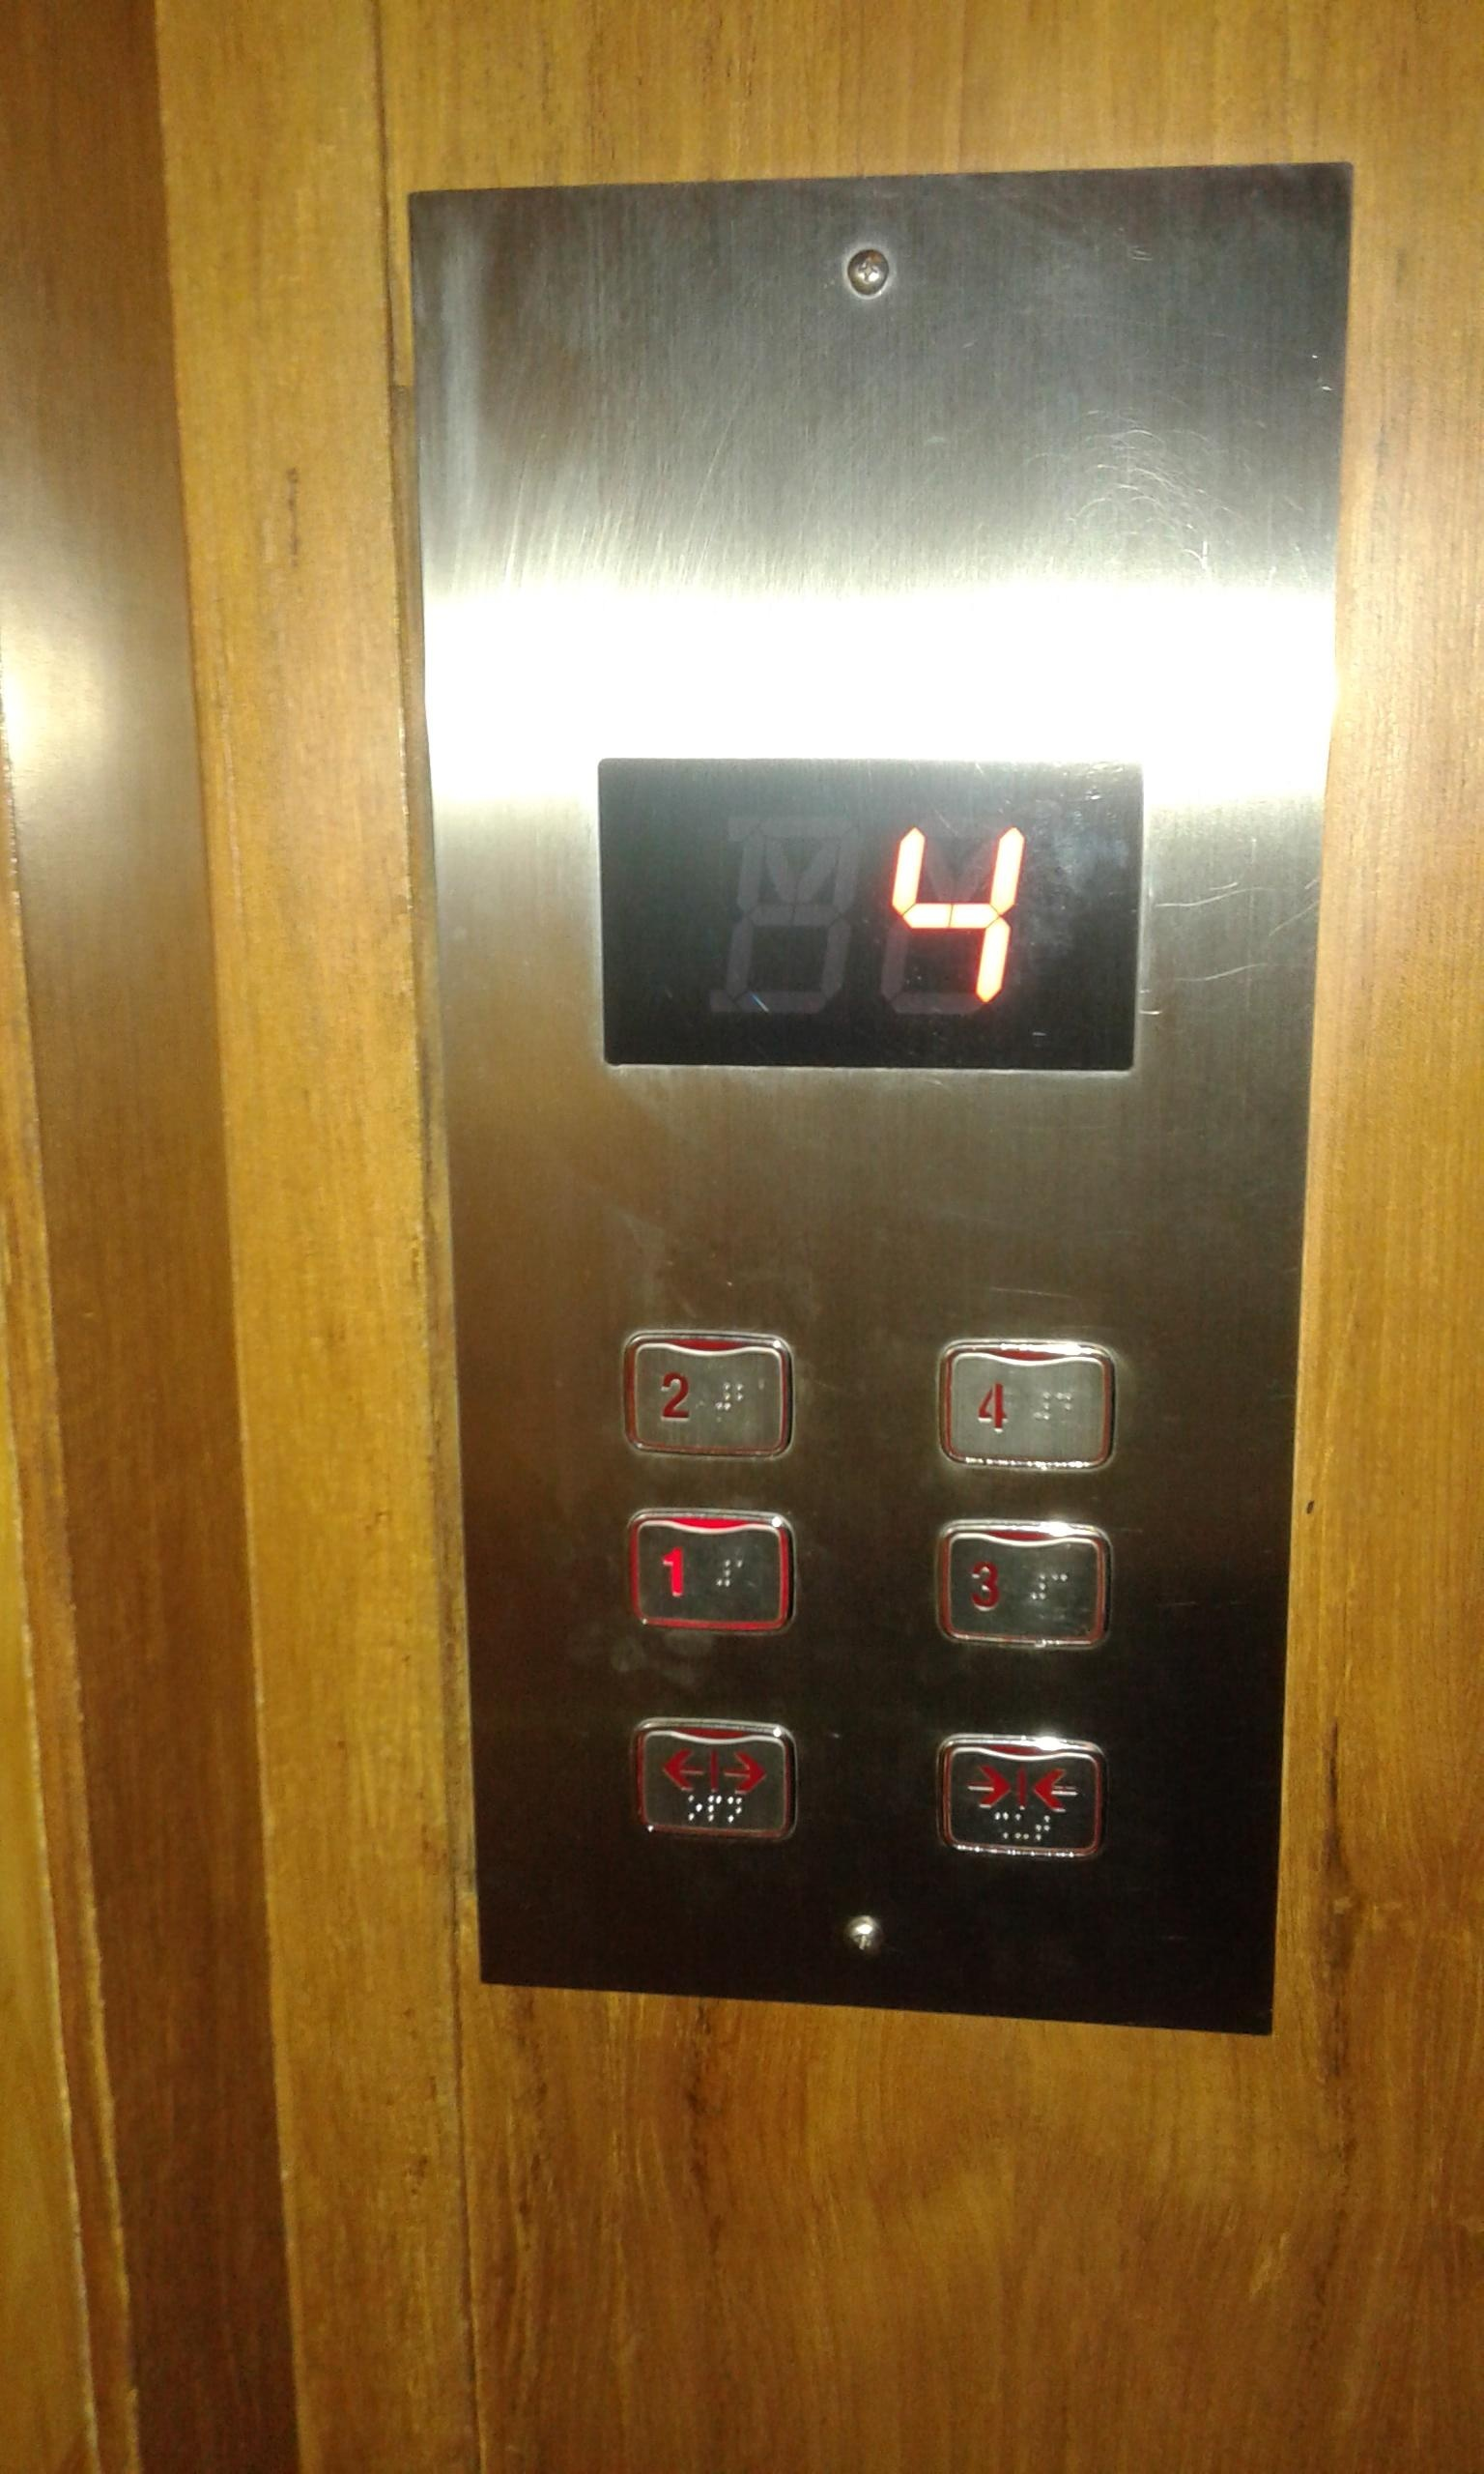1: (620, 1504, 799, 1636)
2: (618, 1325, 797, 1461)
3: (935, 1518, 1113, 1652)
4: (931, 1332, 1122, 1476)
close: (931, 1728, 1111, 1863)
led: (574, 737, 1157, 1094)
open: (627, 1712, 799, 1843)
